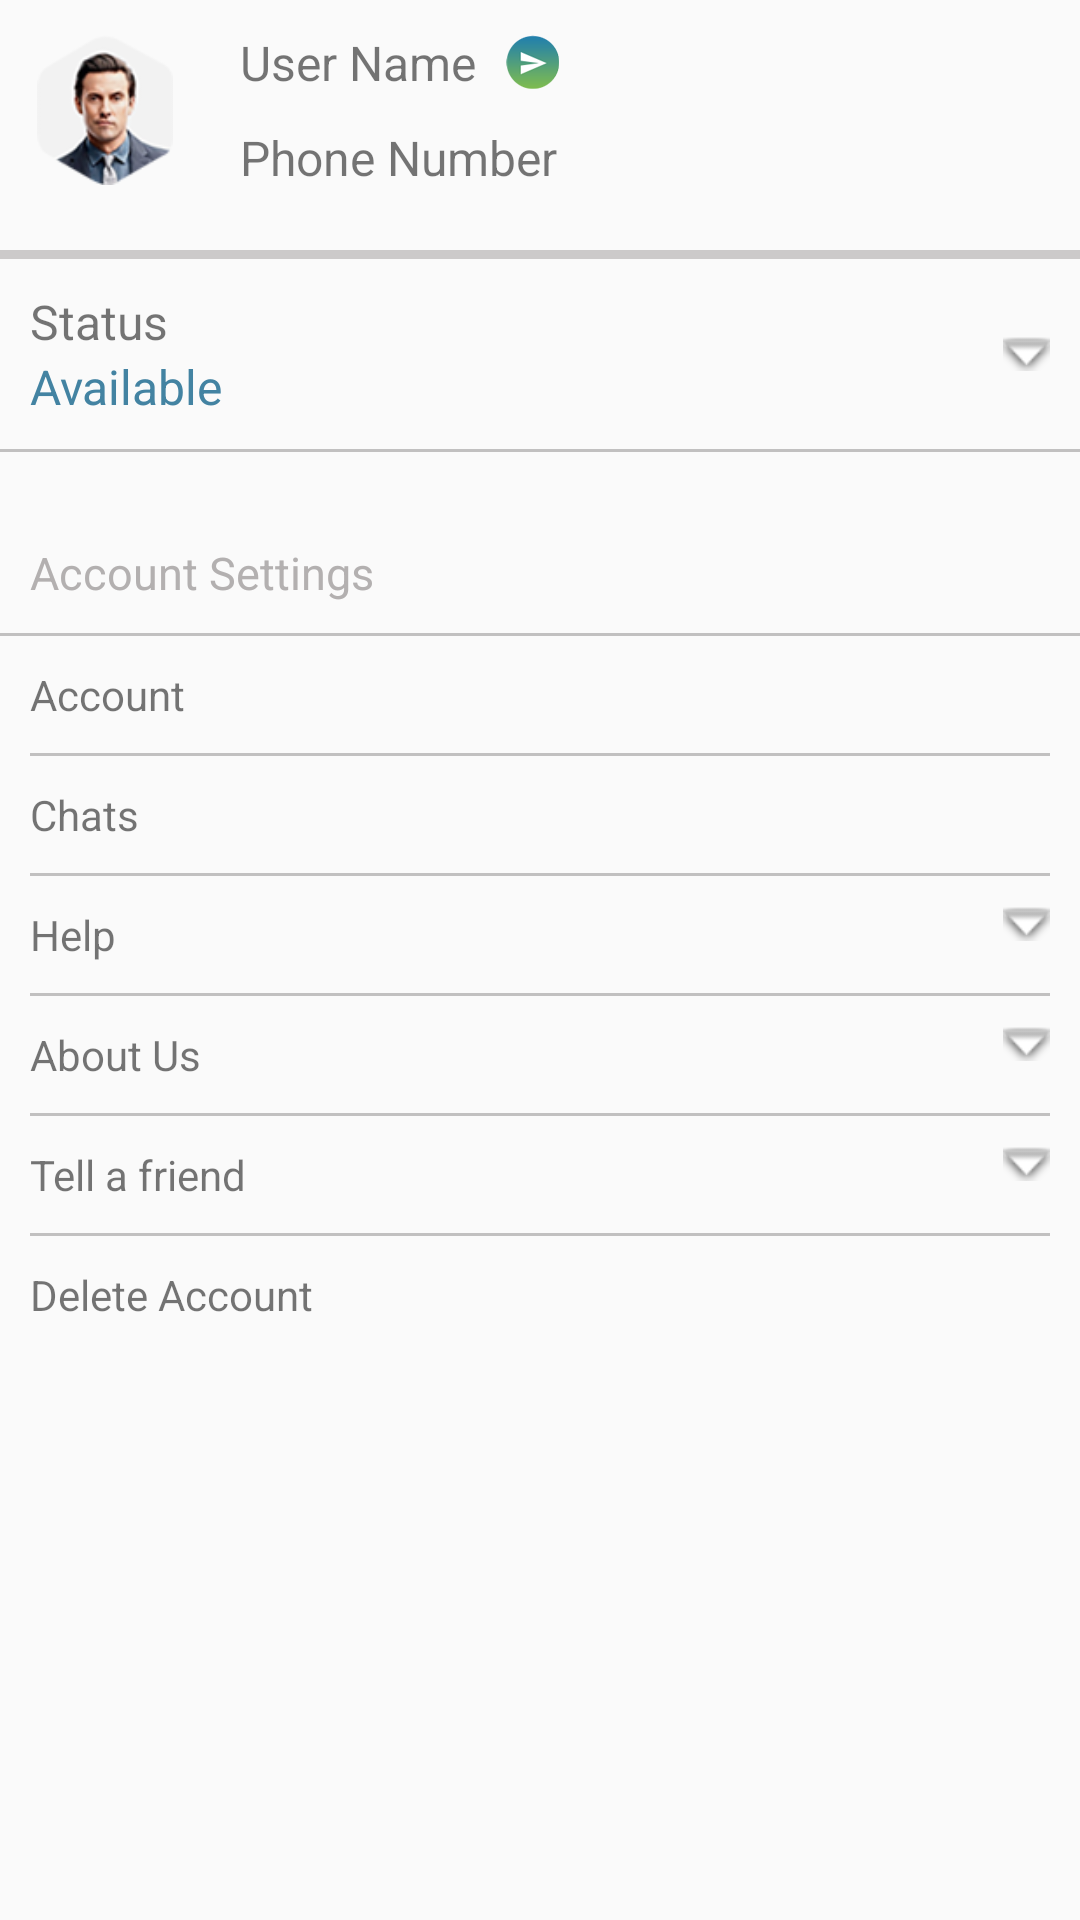

Named icons in this screenshot (1080 × 1920) and their bounding boxes, (x1, y1, x2, y2):
arrow down float: (1003, 338, 1050, 370), (1003, 908, 1050, 940), (1003, 1028, 1050, 1060), (1003, 1148, 1050, 1180)
profile pic: (56, 52, 170, 185)
send: (506, 35, 559, 89)
